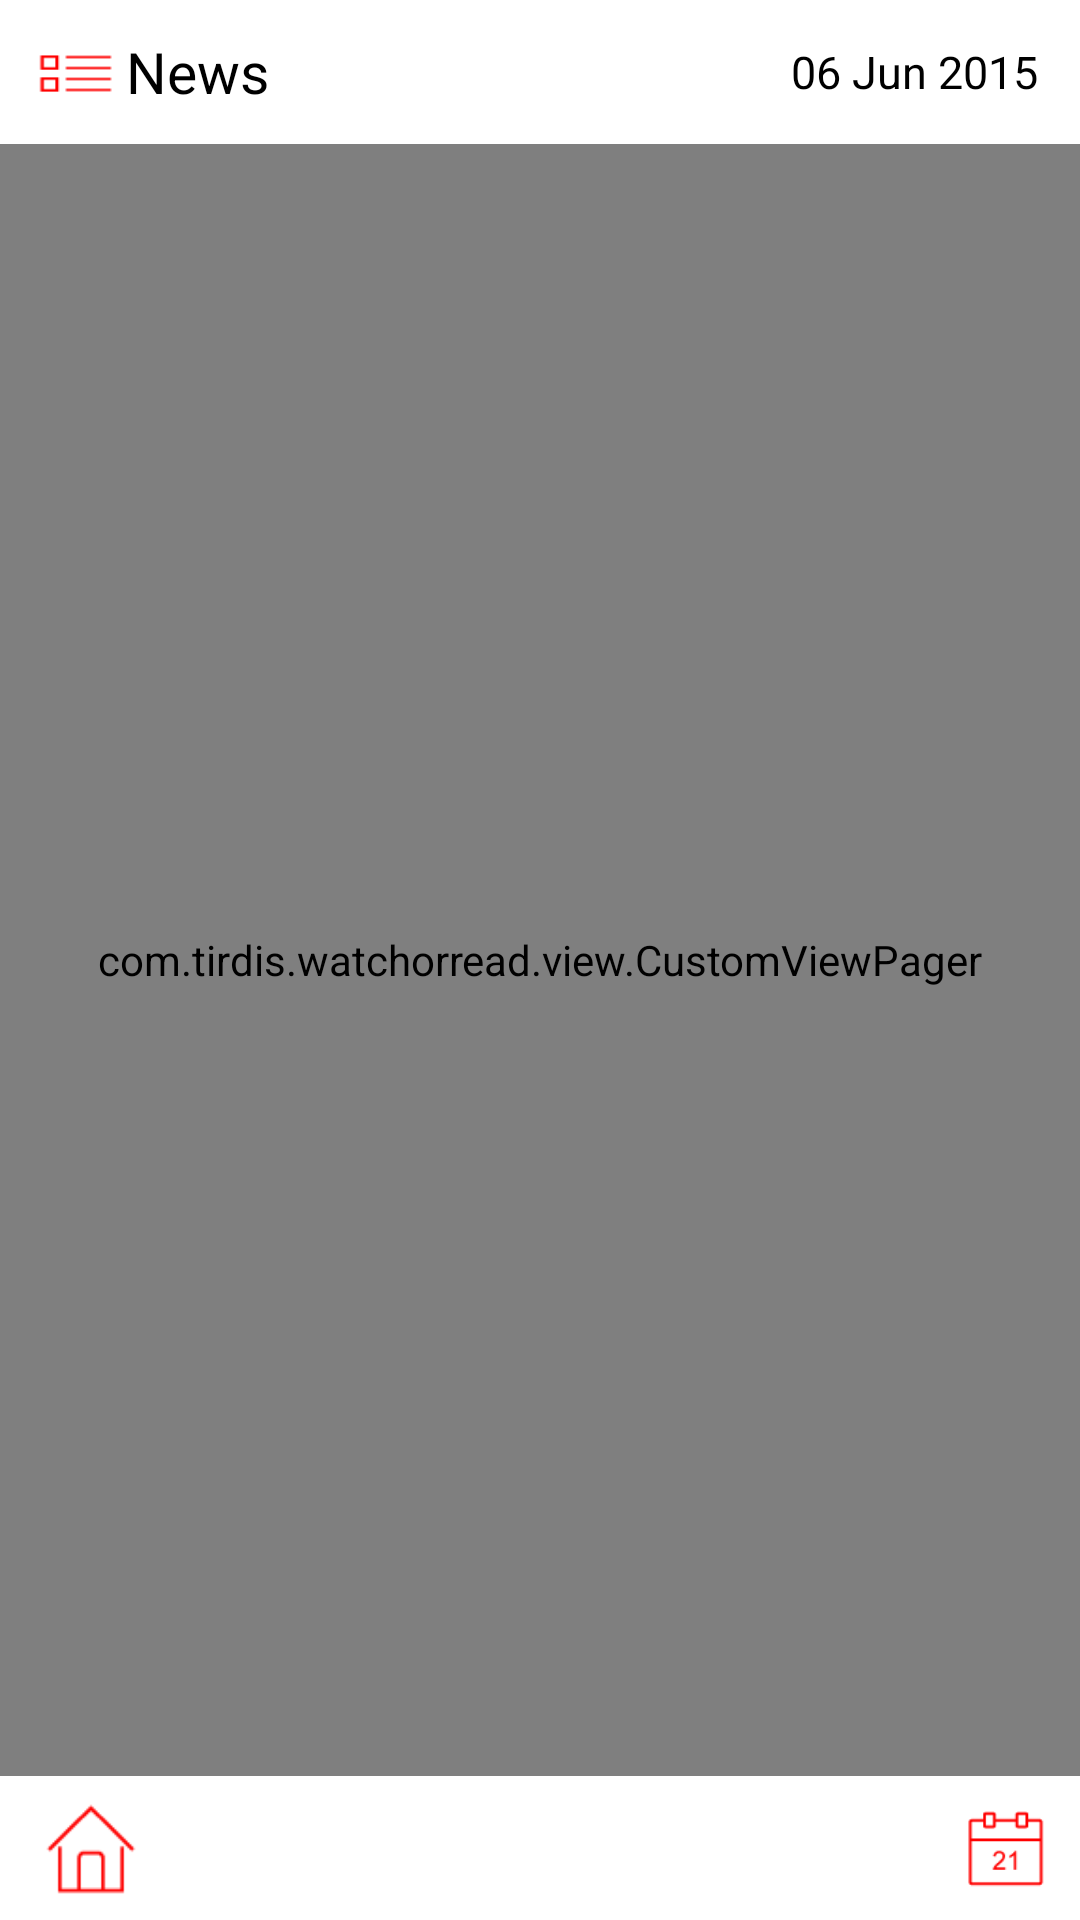

Locate icon controls on the screen. Image size 1080w x 1920h, boxes as box=[x1, y1, x2, y2].
calendar: box=[968, 1811, 1044, 1886]
